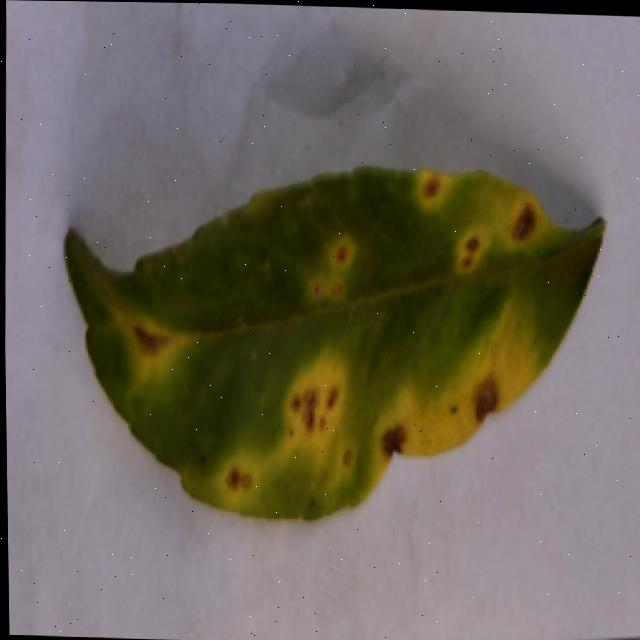canker: (65, 170, 600, 518), (433, 297, 544, 453), (436, 178, 563, 274), (292, 212, 367, 309), (281, 359, 355, 448), (411, 144, 468, 209), (118, 307, 181, 365), (365, 407, 422, 470), (220, 446, 264, 507)
